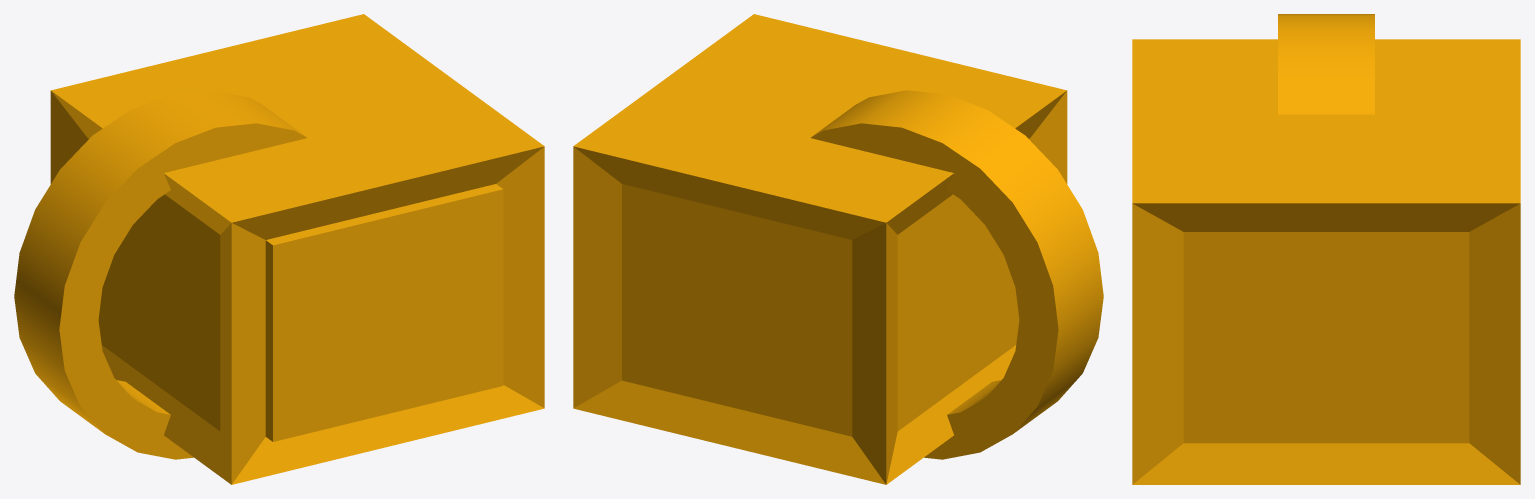
File: Looper.obj
3 renders of one model, left to right at view 1: azimuth 30°, elevation 25°; view 2: azimuth 150°, elevation 25°; view 3: azimuth 270°, elevation 25°, orthographic. The views are drawn at different scales.
Visible parts, largest first — view 1: Handle, Circle; view 2: Handle, Circle; view 3: Handle, Circle.
Part boxes in pixels (x1=…): Handle: x1=50, y1=14, x2=544, y2=484; Circle: x1=14, y1=90, x2=307, y2=459; Handle: x1=573, y1=14, x2=1067, y2=484; Circle: x1=810, y1=90, x2=1103, y2=459; Handle: x1=1132, y1=39, x2=1520, y2=484; Circle: x1=1278, y1=14, x2=1374, y2=114.
Size of the model in its own units: 0.8 by 0.6 by 0.6.
